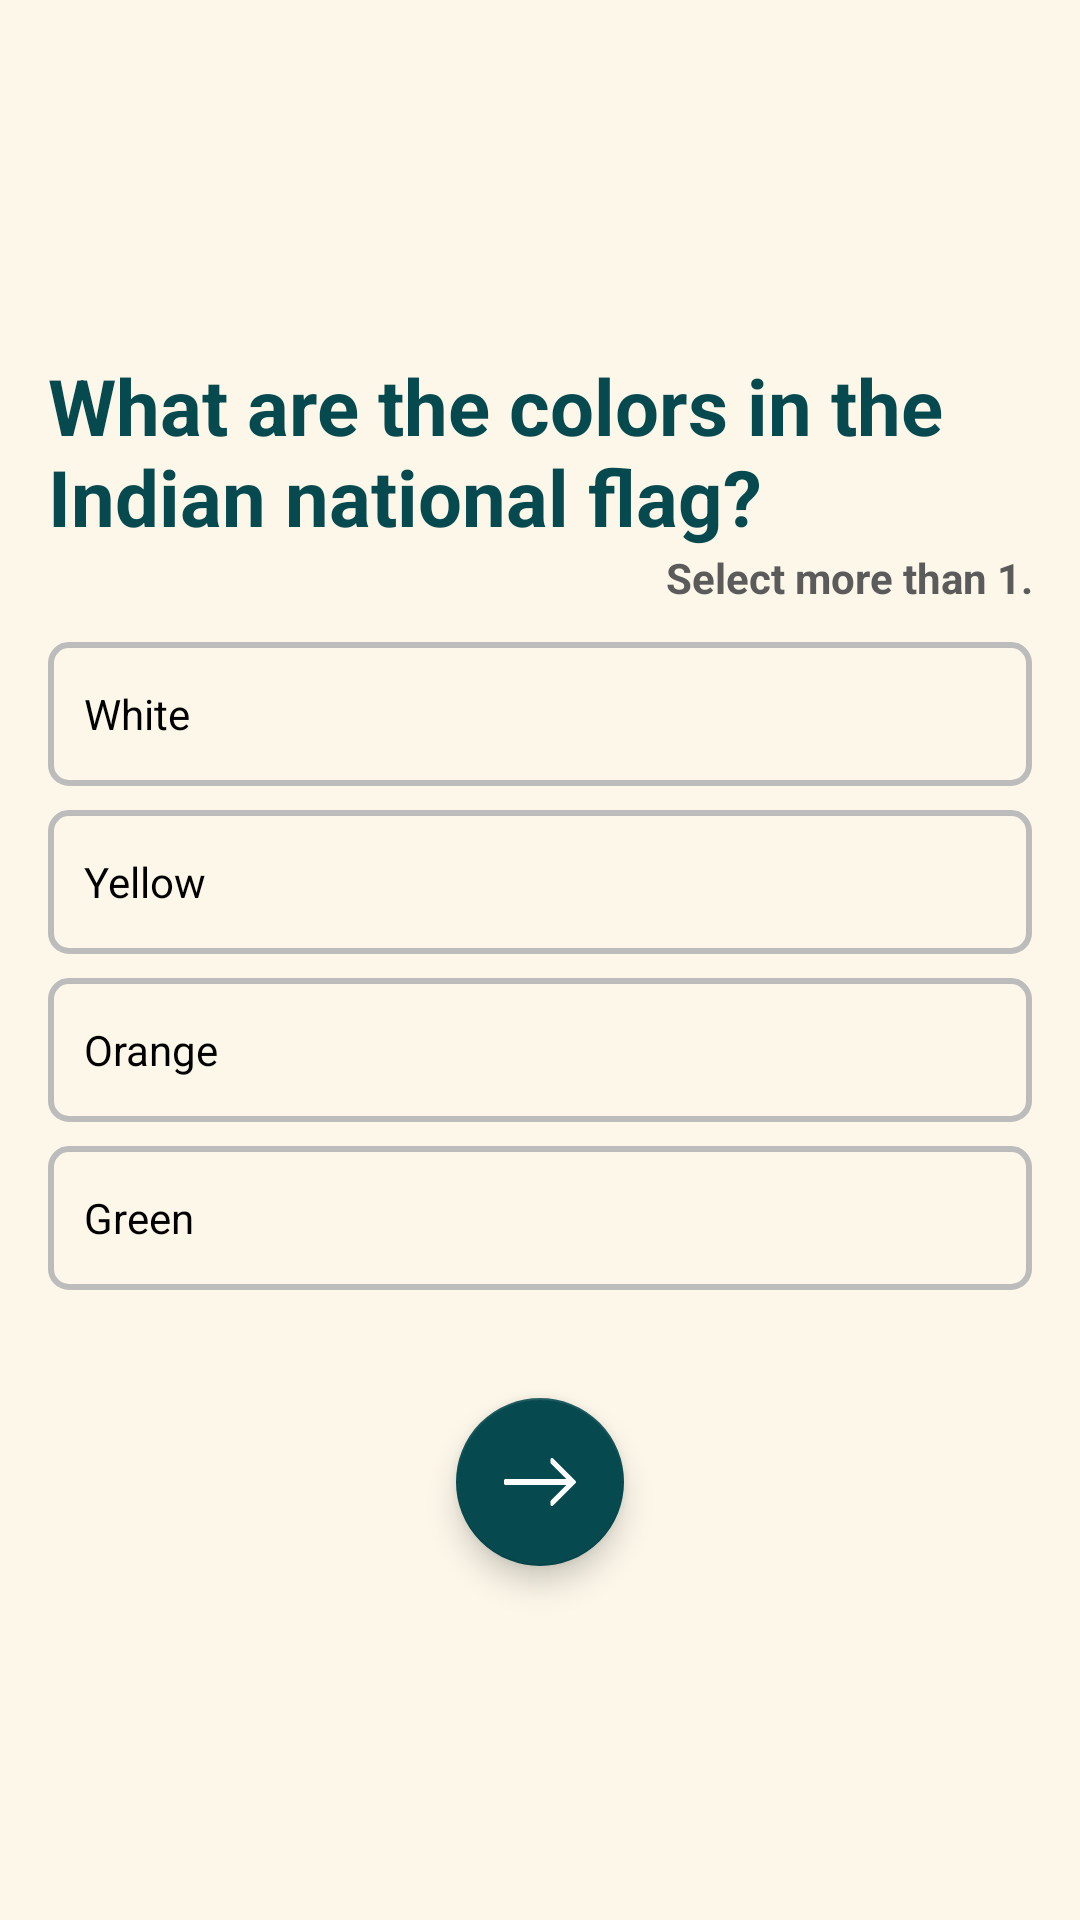

Named icons in this screenshot (1080×1920) and their centers, [x,y]:
right arrow: [540,1482]
